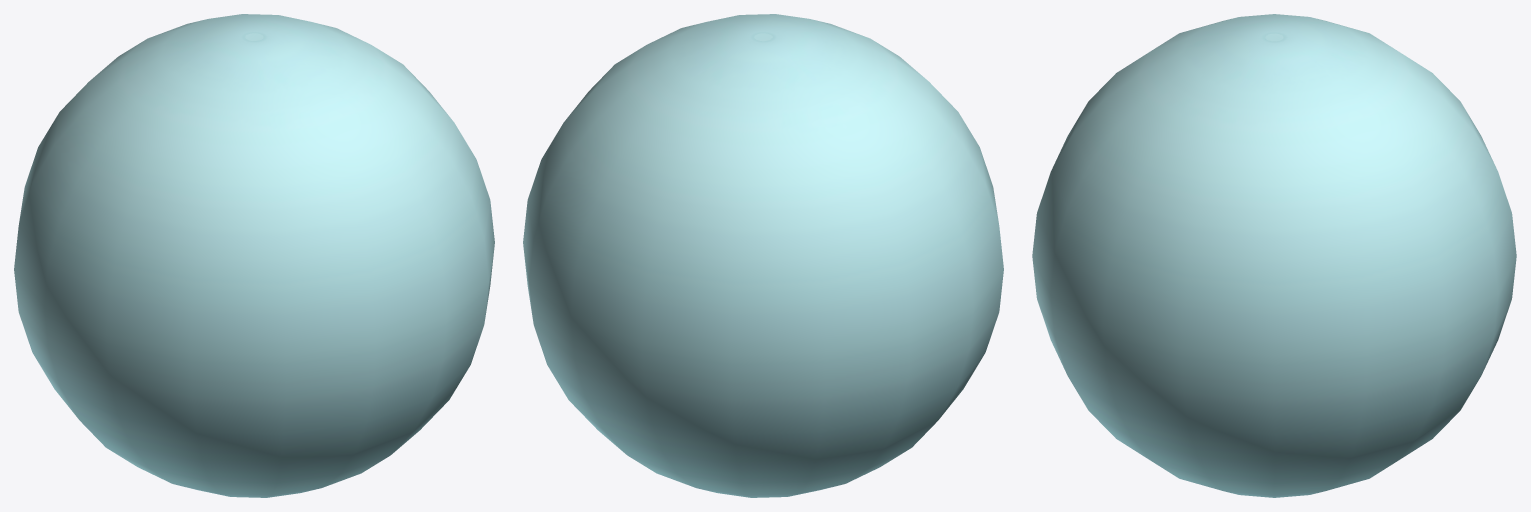
The model's file is Uranus.fbx.
The picture shows the model from 3 angles, left to right: view 1: azimuth 30°, elevation 25°; view 2: azimuth 150°, elevation 25°; view 3: azimuth 270°, elevation 25°; orthographic projection.
Visible parts, largest first — view 1: Uranus; view 2: Uranus; view 3: Uranus.
Boxes of the visible parts, box(x1,y1,x2,y2) form: Uranus: box(14, 14, 494, 497); Uranus: box(523, 14, 1003, 497); Uranus: box(1032, 14, 1516, 497).
Bounding box in the file's own units: 9.6 × 9.55 × 9.6.
